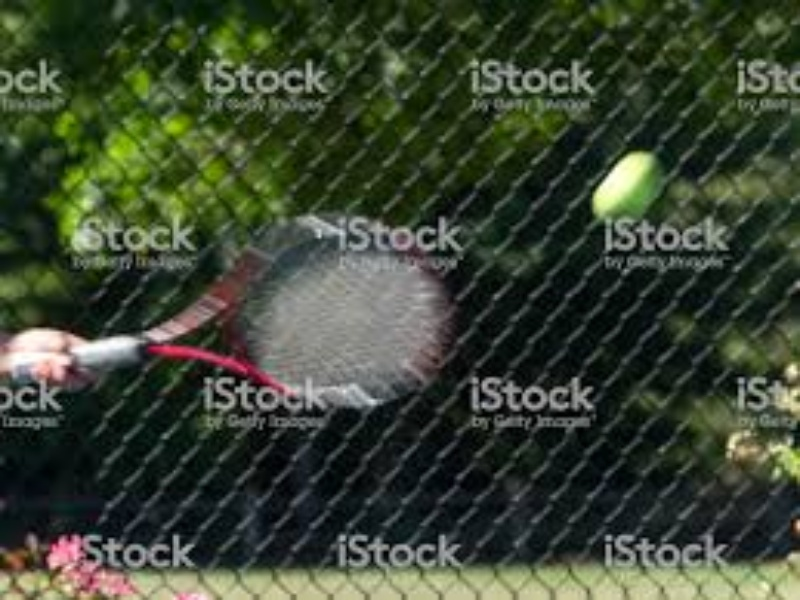tennis ball: (588, 134, 686, 264)
